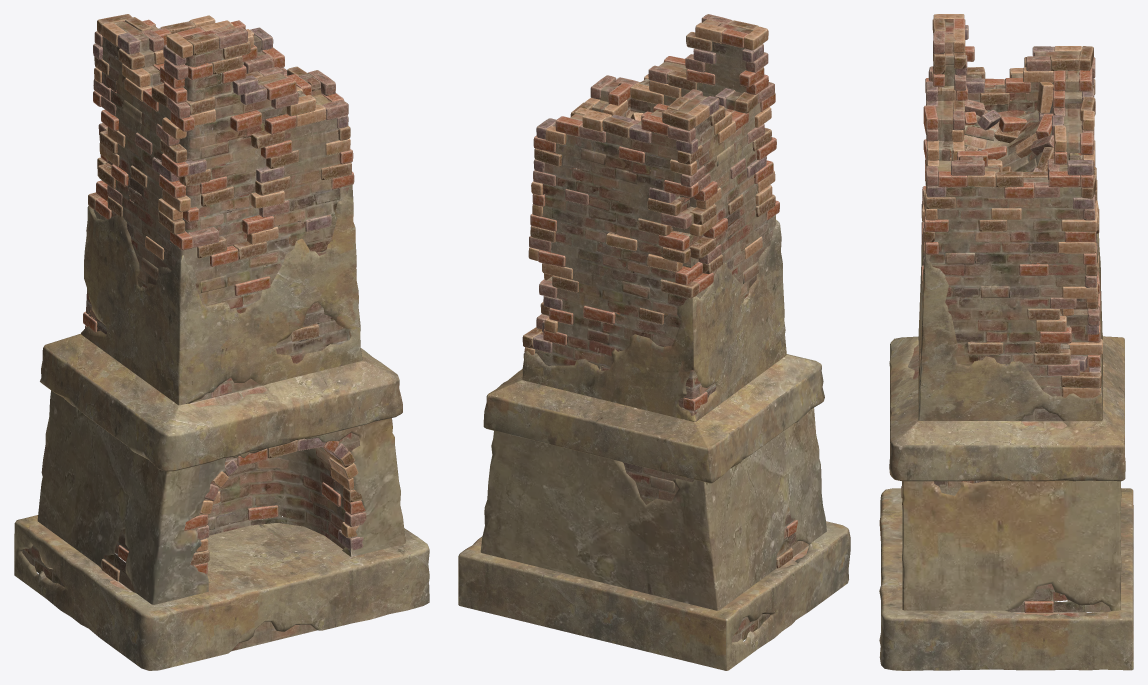
The picture shows the model from 3 angles, left to right: view 1: azimuth 30°, elevation 25°; view 2: azimuth 150°, elevation 25°; view 3: azimuth 270°, elevation 25°; orthographic projection. The views are drawn at different scales.
Parts seen in each view (by area): view 1: SM_Chimney_01v1_LOD0; view 2: SM_Chimney_01v1_LOD0; view 3: SM_Chimney_01v1_LOD0.
Boxes of the visible parts, x1,y1,x2,y2 form: SM_Chimney_01v1_LOD0: (14,14,429,670); SM_Chimney_01v1_LOD0: (458,14,850,670); SM_Chimney_01v1_LOD0: (879,14,1133,670).
Size of the model in its own units: 3.27 by 6.36 by 2.65.
Materials: 3 (3 with a texture image).
